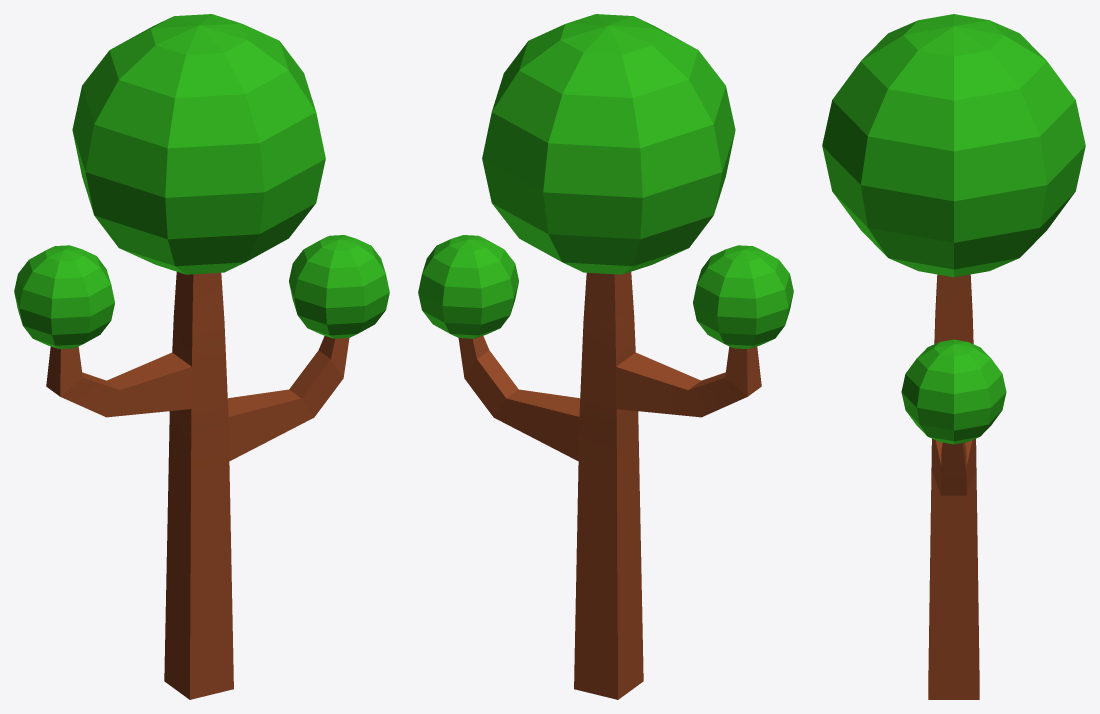
Rendered from arbol1Final.fbx.
The picture shows the model from 3 angles, left to right: view 1: azimuth 30°, elevation 25°; view 2: azimuth 150°, elevation 25°; view 3: azimuth 270°, elevation 25°; orthographic projection.
Visible parts, largest first — view 1: hojas, tronco; view 2: hojas, tronco; view 3: hojas, tronco.
Boxes of the visible parts, x1,y1,x2,y2 form: hojas: [14, 14, 389, 349]; tronco: [46, 272, 349, 699]; hojas: [418, 14, 793, 349]; tronco: [458, 272, 761, 699]; hojas: [822, 14, 1085, 444]; tronco: [928, 274, 979, 699].
Bounding box in the file's own units: 96.51 × 167 × 60.04.
